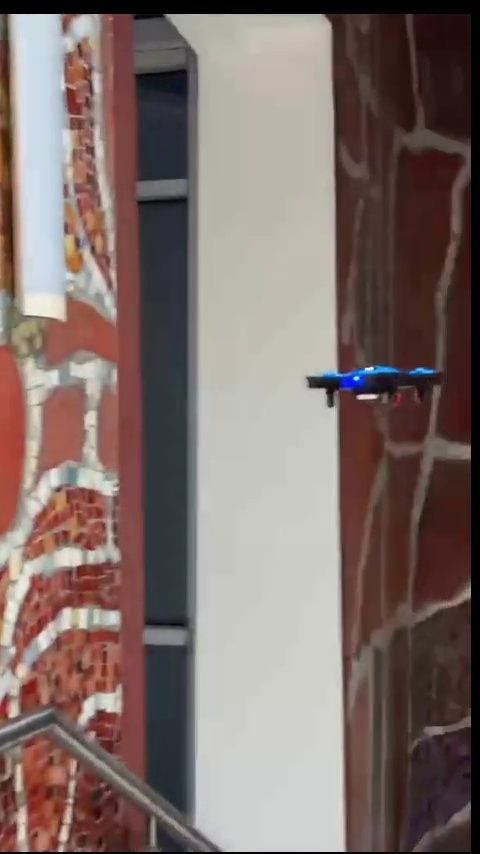drone: (306, 363, 451, 412)
